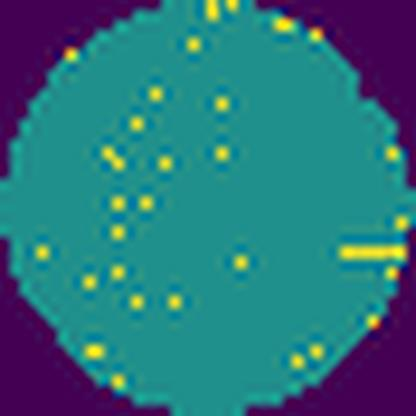Scratch: (334, 242, 411, 264)
